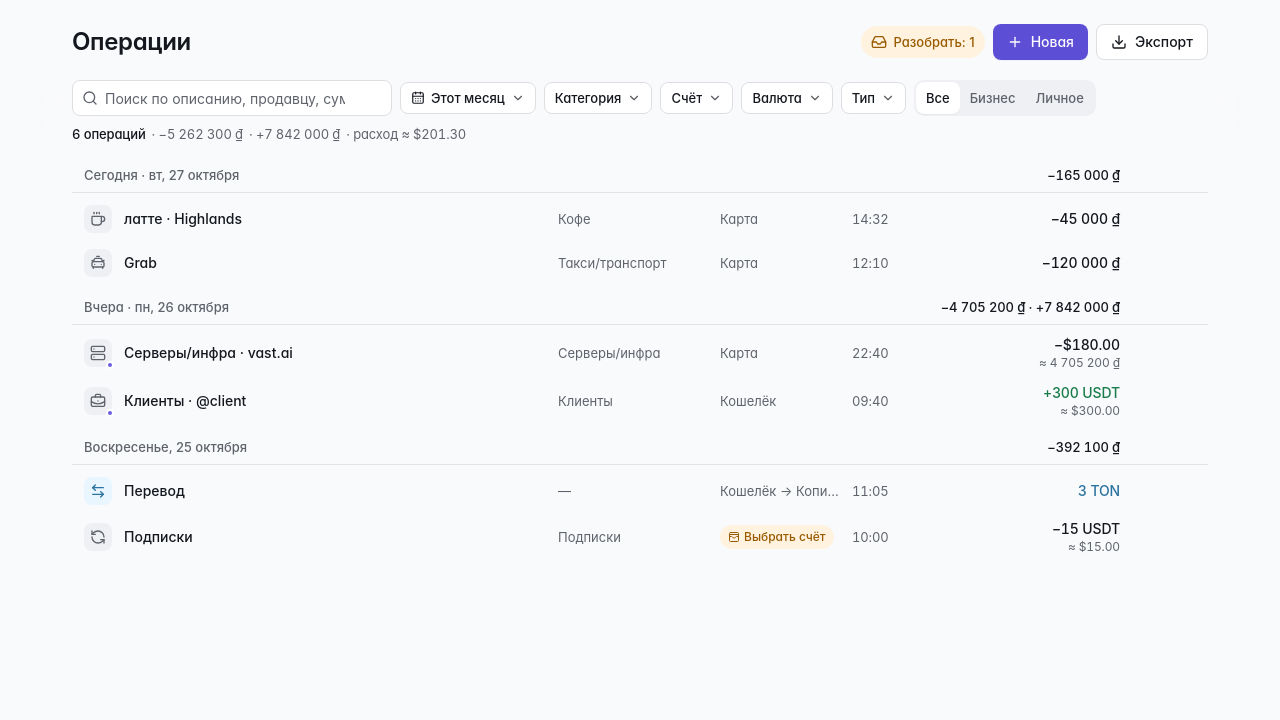
it: OperationsView › deletes with Delete key and undoes from the toast («Вернуть»)
Expected: the text "латте · Highlands" is shown, [124,209,242,229]
Step 1. Press Arrowdown Delete
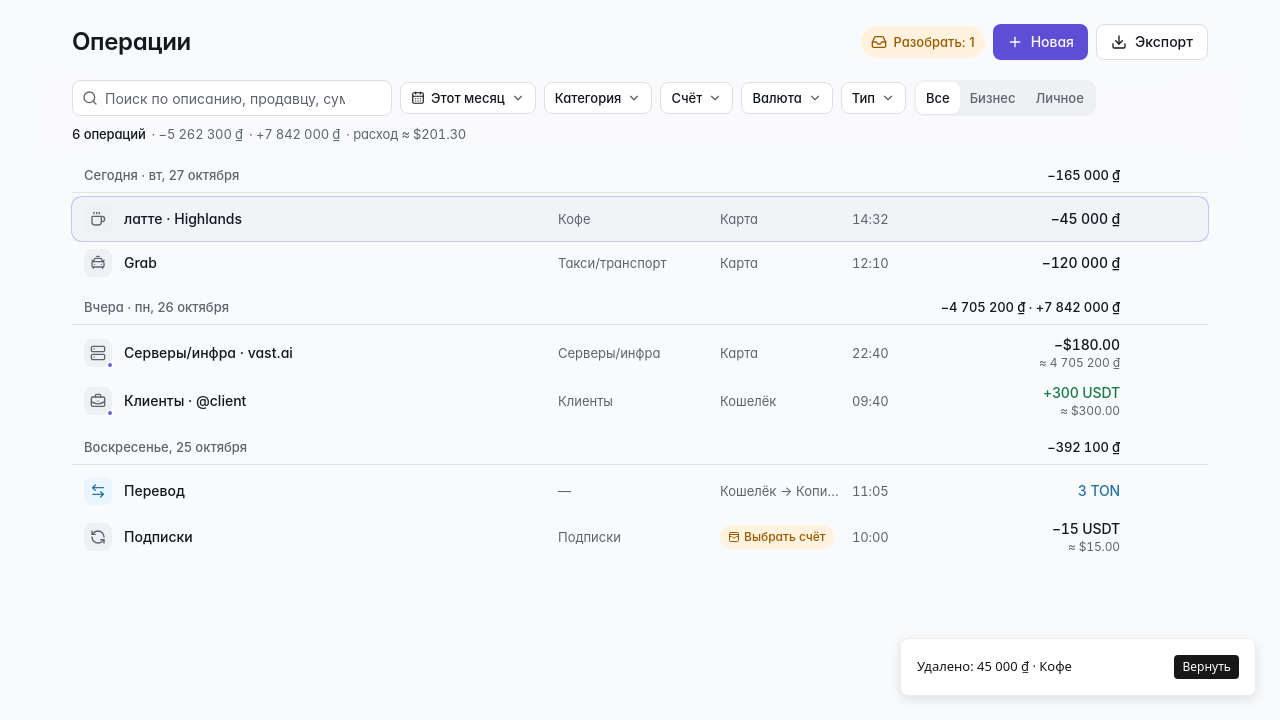
Now the text "Удалено: 45 000 ₫ · Кофе" is shown, box [917,657,1072,677]
Step 2. Click the button "Вернуть" → click(1207, 667), box [1174,655,1239,679]
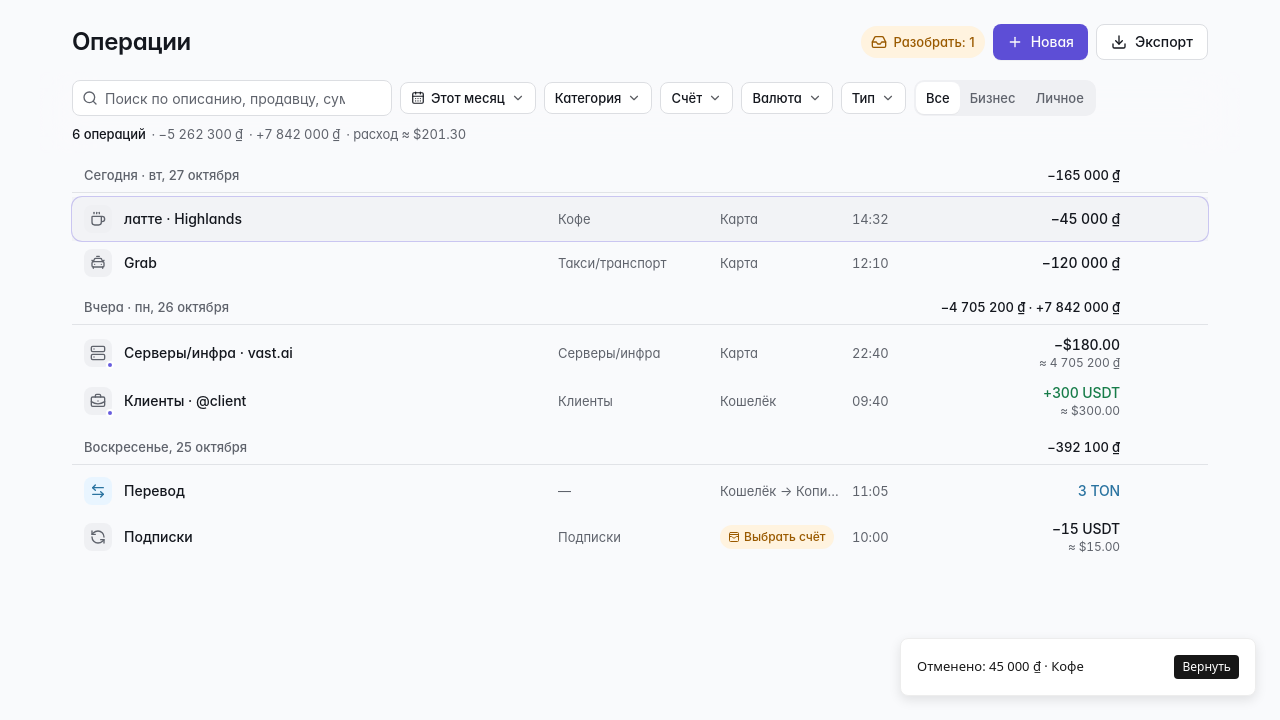
Now the text "Отменено: 45 000 ₫ · Кофе" is shown, box [917,657,1084,677]
